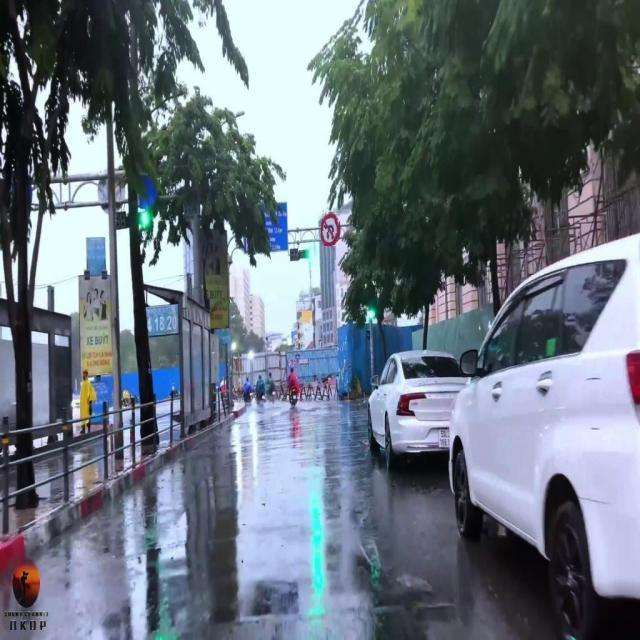124c-cam-re-trai-va-cam-quay-dau-xe: (318, 212, 342, 248)
